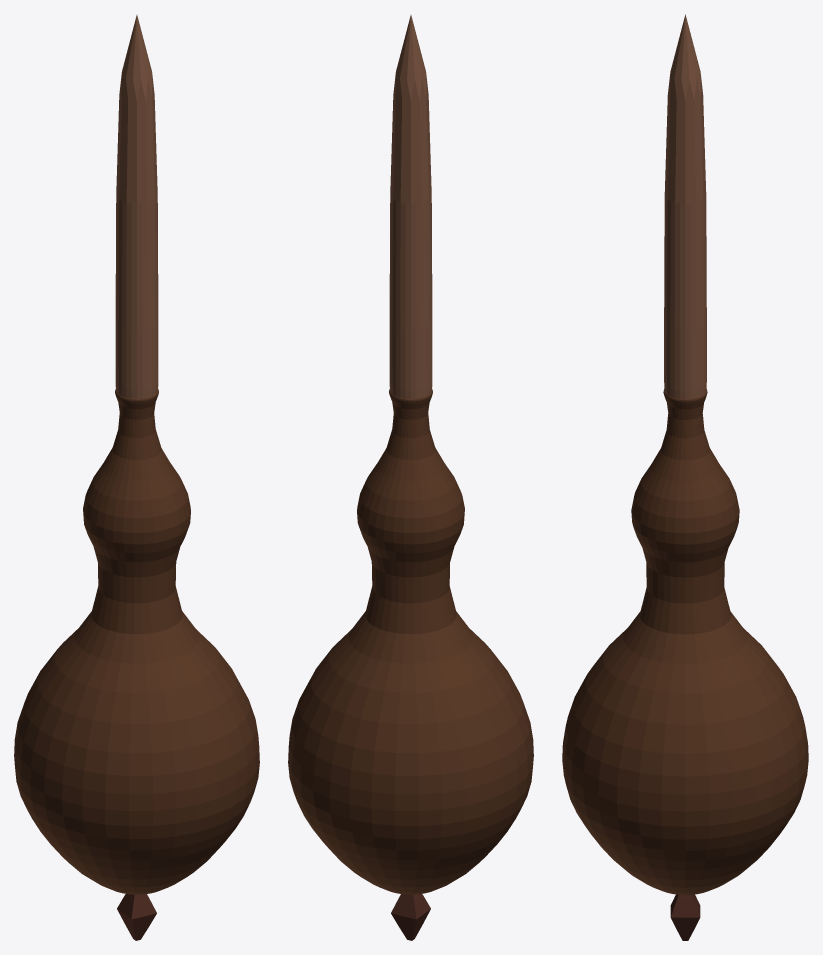
Rendered from Wand 605.glb.
3 views of the same model, side by side, from view 1: azimuth 30°, elevation 25°; view 2: azimuth 150°, elevation 25°; view 3: azimuth 270°, elevation 25° (orthographic).
Visible parts, largest first — view 1: GeneratedWand; view 2: GeneratedWand; view 3: GeneratedWand.
Boxes of the visible parts, box(x1,y1,x2,y2) form: GeneratedWand: box(14, 15, 259, 940); GeneratedWand: box(288, 15, 533, 940); GeneratedWand: box(562, 14, 808, 940).
Size of the model in its own units: 0.123 by 0.5095 by 0.123.
